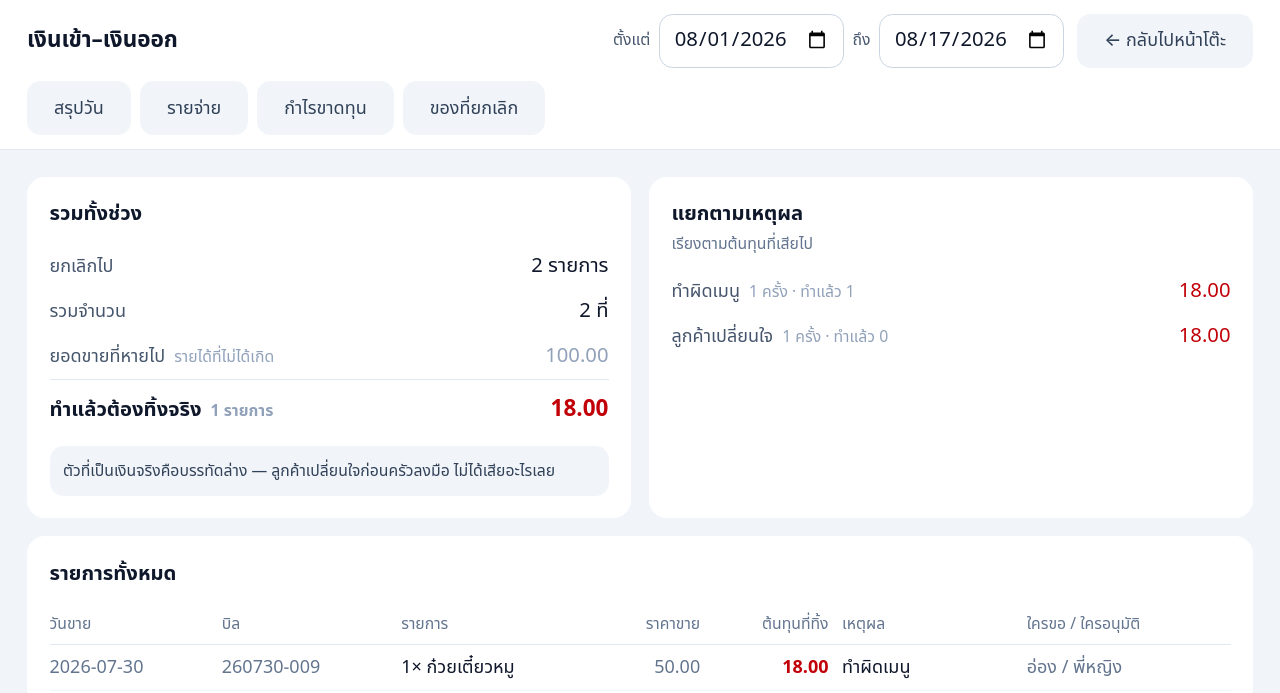
Test: a range that runs backwards › is refused on the screen without asking the server
Expected: the heading "รวมทั้งช่วง" is shown, [50,199,142,229]
Type "2026-12-01" into the date field labelled "ตั้งแต่".
click(751, 40); type("2026-12-01")  # box [659,14,844,68]
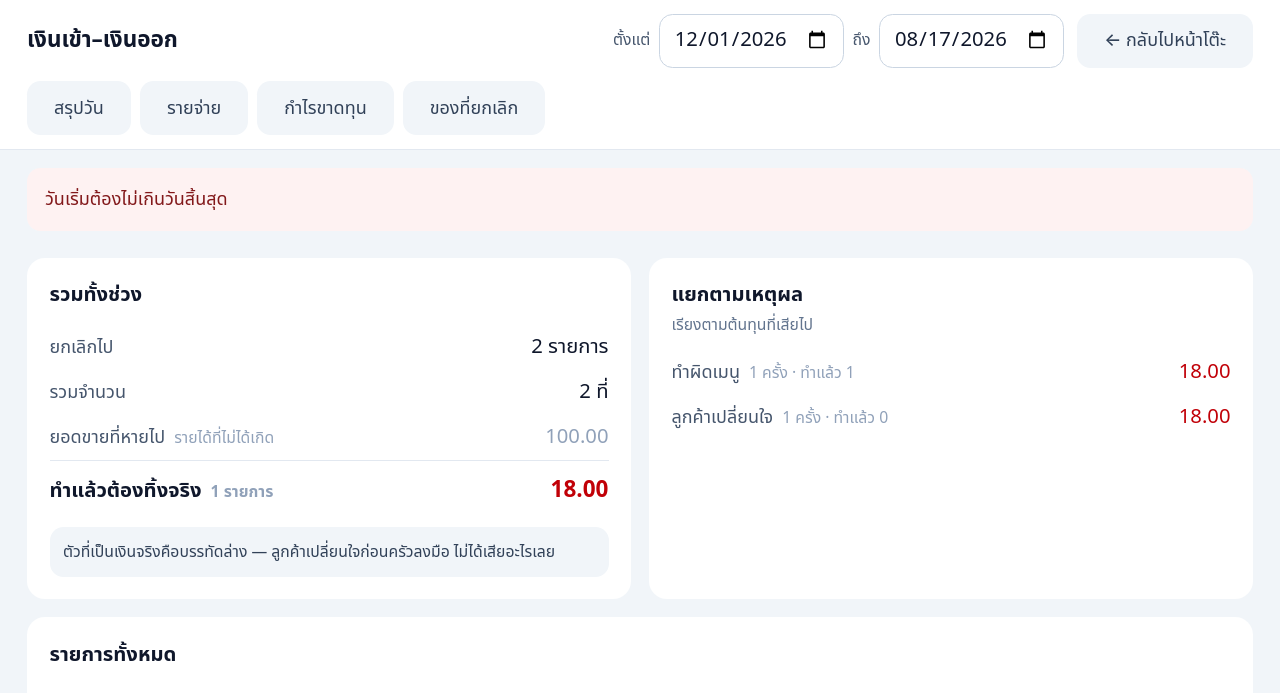
Result: the message "วันเริ่มต้องไม่เกินวันสิ้นสุด" is shown at [27,168,1253,230]
Result: the message reads "วันเริ่มต้องไม่เกินวันสิ้นสุด" at [45,186,228,212]
